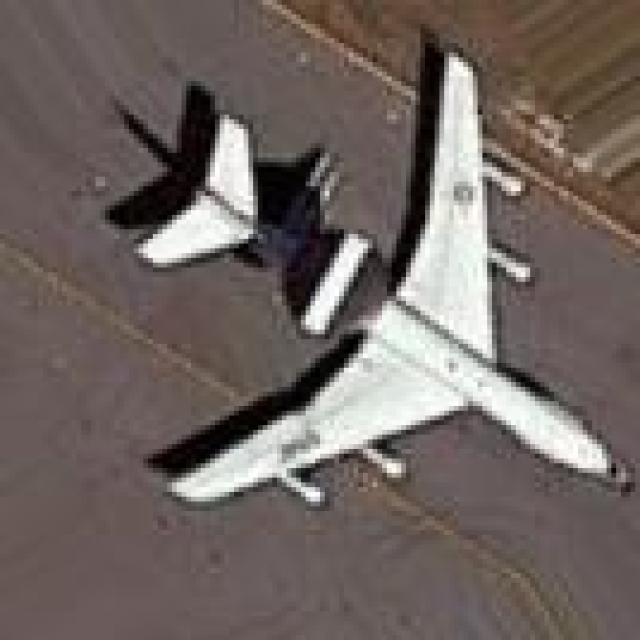E-3_TopDown: (138, 33, 626, 511)
